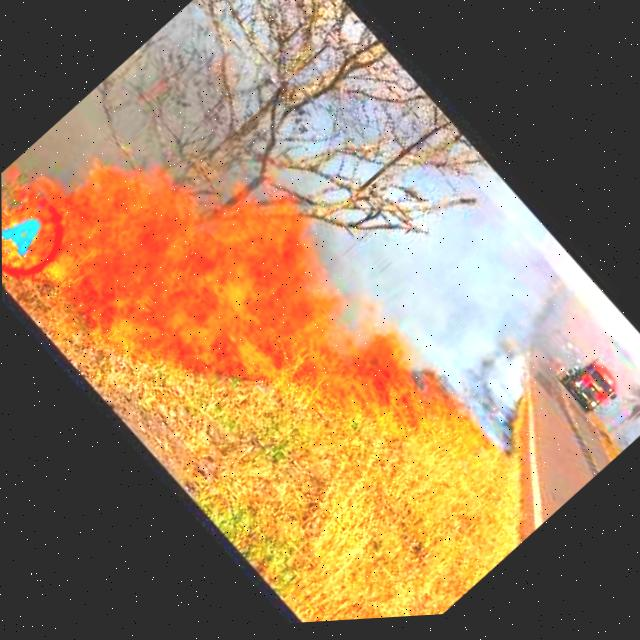Fire: (0, 53, 491, 610)
Smoke: (250, 37, 621, 444)
